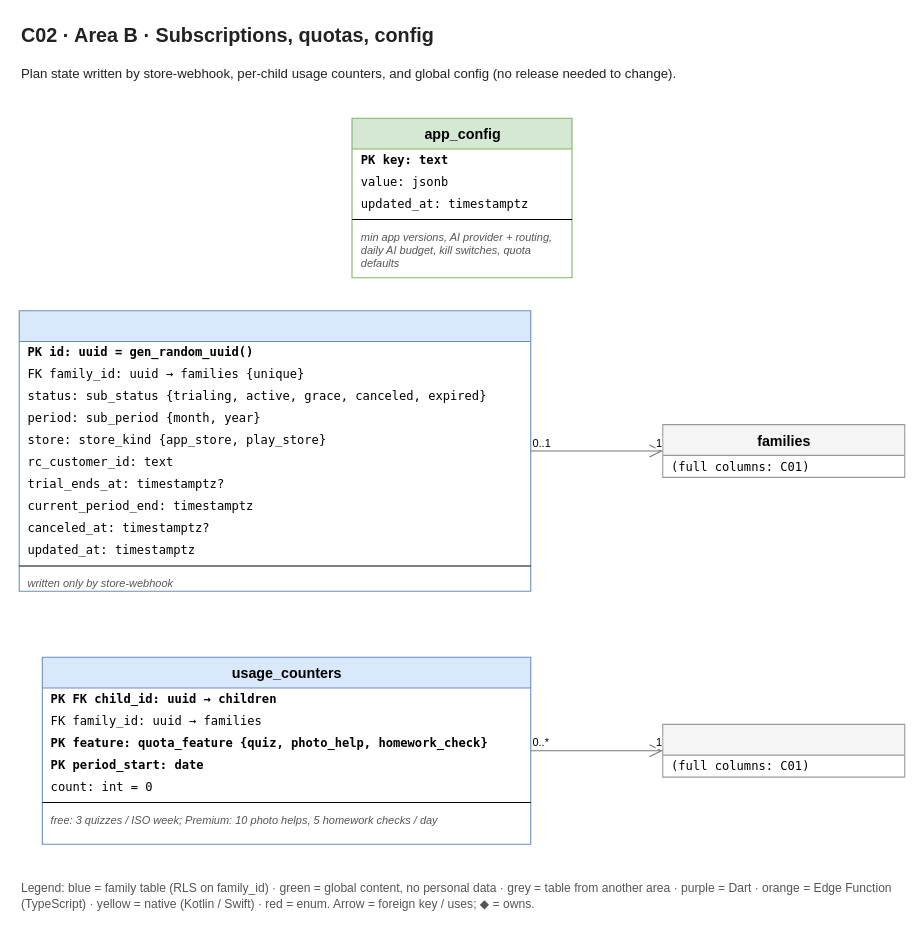
This 924x933 diagram has some shape labels left out. Each missing label, with the box of its shape:
children: (662, 723, 905, 777)
subscriptions: (18, 310, 531, 591)
